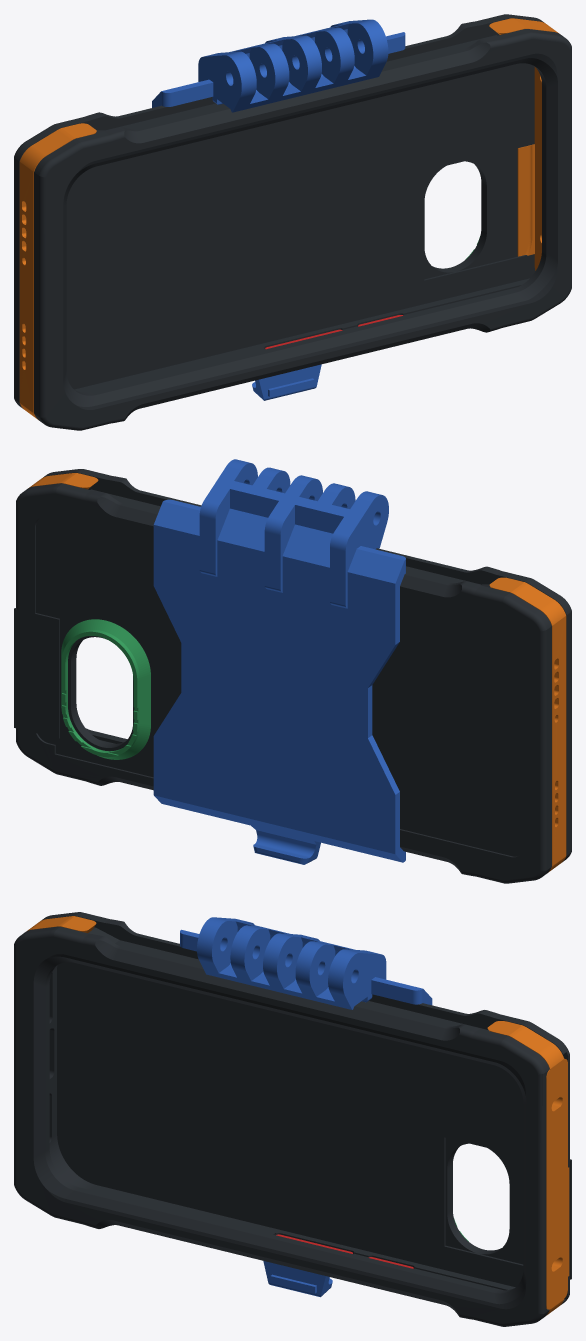
The model's file is pixel9a_assembly.obj.
3 views of the same model, one above another, from view 1: azimuth 30°, elevation 25°; view 2: azimuth 150°, elevation 25°; view 3: azimuth 330°, elevation 25° (orthographic).
Visible parts, largest first — view 1: case, molle_adapter, bottom_cap, top_cap; view 2: case, molle_adapter, bottom_cap, camera_protector_cap, top_cap; view 3: case, molle_adapter, top_cap, bottom_cap.
Boxes of the visible parts, x1,y1,x2,y2 form: case: [14, 14, 571, 430]; molle_adapter: [152, 19, 405, 400]; bottom_cap: [19, 123, 96, 419]; top_cap: [489, 18, 558, 270]; case: [14, 469, 571, 883]; molle_adapter: [153, 459, 405, 864]; bottom_cap: [489, 577, 566, 872]; camera_protector_cap: [61, 619, 150, 759]; top_cap: [29, 473, 98, 489]; case: [14, 912, 571, 1326]; molle_adapter: [180, 917, 432, 1297]; top_cap: [487, 1021, 569, 1315]; bottom_cap: [27, 916, 96, 933].
Bounding box in the file's own units: 166 × 109 × 23.5.
